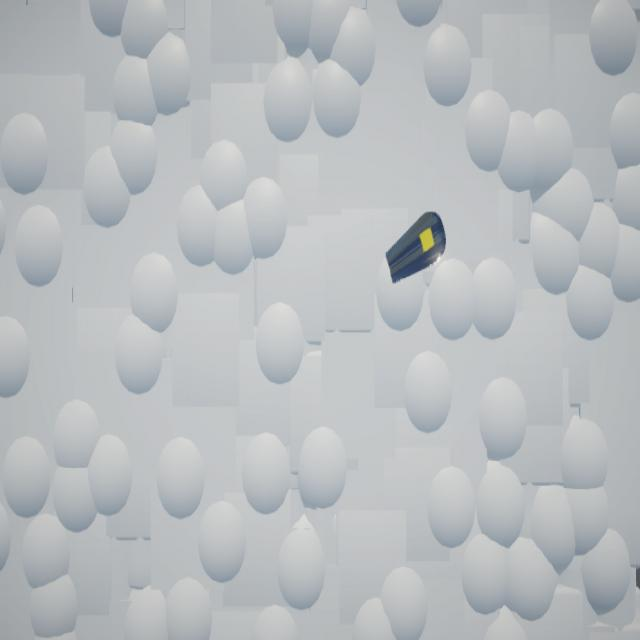handle_folk: (386, 212, 447, 285)
